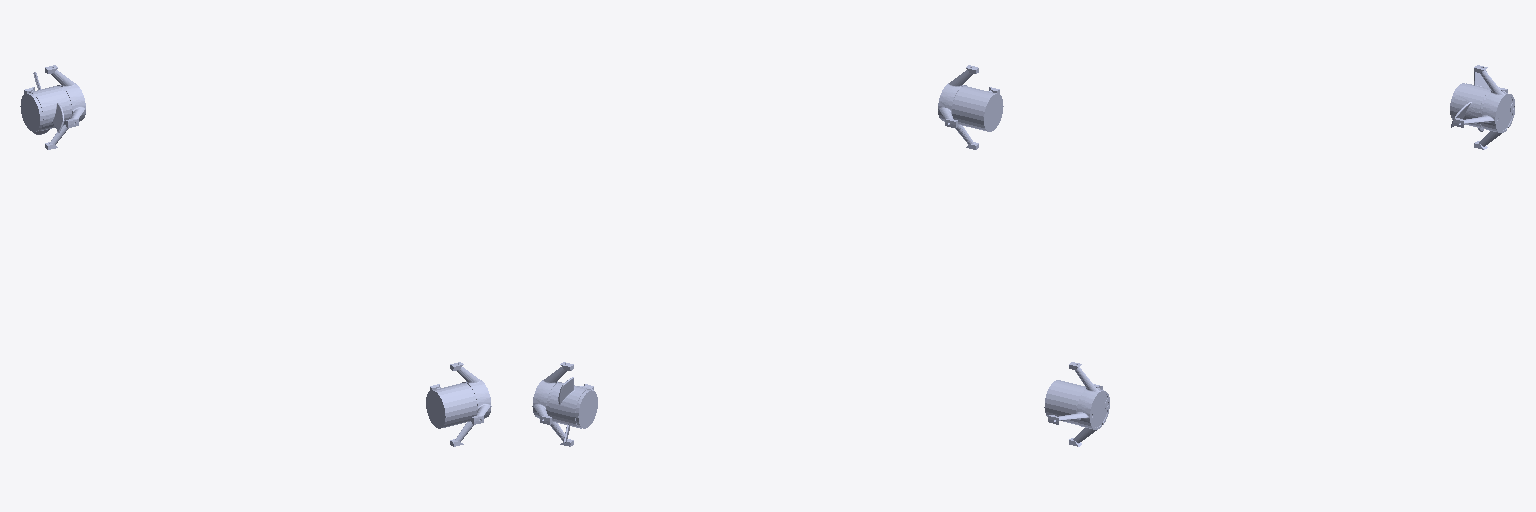
robot.urdf — boatcleaningc:
<?xml version="1.0" encoding="utf-8"?>
<!-- This URDF was automatically created by SolidWorks to URDF Exporter! Originally created by Stephen Brawner ([email redacted]) 
     Commit Version: 1.6.0-4-g7f85cfe  Build Version: 1.6.7995.38578
     For more information, please see http://wiki.ros.org/sw_urdf_exporter -->
<robot
  name="boatcleaningc">
  <link
    name="baseboatclening">
    <inertial>
      <origin
        xyz="-0.0129680077841765 1.25727561811617E-06 -0.0543415157249071"
        rpy="0 0 0" />
      <mass
        value="13.5985858196954" />
      <inertia
        ixx="0.12499527878428"
        ixy="8.1696015611578E-07"
        ixz="-0.00148374605527537"
        iyy="0.0961950105001574"
        iyz="8.27994826632574E-06"
        izz="0.136442575579436" />
    </inertial>
    <visual>
      <origin
        xyz="0 0 0"
        rpy="0 0 0" />
      <geometry>
        <mesh
          filename="package://boatcleaningc/meshes/baseboatclening.STL" />
      </geometry>
      <material
        name="">
        <color
          rgba="1 1 1 1" />
      </material>
    </visual>
    <collision>
      <origin
        xyz="0 0 0"
        rpy="0 0 0" />
      <geometry>
        <mesh
          filename="package://boatcleaningc/meshes/baseboatclening.STL" />
      </geometry>
    </collision>
  </link>
  <link
    name="axegauche">
    <inertial>
      <origin
        xyz="1.27679435346639E-06 -4.87775281632352E-06 0.0164902272597591"
        rpy="0 0 0" />
      <mass
        value="0.0667653906372772" />
      <inertia
        ixx="2.27687846986066E-05"
        ixy="-1.64564197087163E-09"
        ixz="-1.94145680803022E-09"
        iyy="2.27919636489373E-05"
        iyz="7.33602396572131E-09"
        izz="1.69008013245686E-05" />
    </inertial>
    <visual>
      <origin
        xyz="0 0 0"
        rpy="0 0 0" />
      <geometry>
        <mesh
          filename="package://boatcleaningc/meshes/axegauche.STL" />
      </geometry>
      <material
        name="">
        <color
          rgba="0.792156862745098 0.819607843137255 0.933333333333333 1" />
      </material>
    </visual>
    <collision>
      <origin
        xyz="0 0 0"
        rpy="0 0 0" />
      <geometry>
        <mesh
          filename="package://boatcleaningc/meshes/axegauche.STL" />
      </geometry>
    </collision>
  </link>
  <joint
    name="axegauchejoint"
    type="fixed">
    <origin
      xyz="-0.263293964432029 0.398727536440511 -0.255999999999994"
      rpy="-1.5707963267949 -0.0017453292519949 -1.5707963267949" />
    <parent
      link="baseboatclening" />
    <child
      link="axegauche" />
    <axis
      xyz="0 0 0" />
  </joint>
  <link
    name="fangauche">
    <inertial>
      <origin
        xyz="0.0121880649596051 -1.96166660693109E-09 4.45801809634272E-08"
        rpy="0 0 0" />
      <mass
        value="0.00795785659641826" />
      <inertia
        ixx="3.72710558894489E-06"
        ixy="2.12970220347823E-13"
        ixz="-8.34019260089533E-13"
        iyy="2.39331655167268E-06"
        iyz="-4.61638273535348E-10"
        izz="2.39447831194732E-06" />
    </inertial>
    <visual>
      <origin
        xyz="0 0 0"
        rpy="0 0 0" />
      <geometry>
        <mesh
          filename="package://boatcleaningc/meshes/fangauche.STL" />
      </geometry>
      <material
        name="">
        <color
          rgba="0.792156862745098 0.819607843137255 0.933333333333333 1" />
      </material>
    </visual>
    <collision>
      <origin
        xyz="0 0 0"
        rpy="0 0 0" />
      <geometry>
        <mesh
          filename="package://boatcleaningc/meshes/fangauche.STL" />
      </geometry>
    </collision>
  </link>
  <joint
    name="fangauchejoint"
    type="continuous">
    <origin
      xyz="0 0 -0.0065208"
      rpy="1.5691 -1.5708 0" />
    <parent
      link="axegauche" />
    <child
      link="fangauche" />
    <axis
      xyz="1 0 0" />
  </joint>
  <link
    name="axedroit">
    <inertial>
      <origin
        xyz="1.27706300609431E-06 -4.87768385248888E-06 0.0164902268079528"
        rpy="0 0 0" />
      <mass
        value="0.0667653874530656" />
      <inertia
        ixx="2.2768784169048E-05"
        ixy="-1.64569925595665E-09"
        ixz="-1.94169064678752E-09"
        iyy="2.27919627987871E-05"
        iyz="7.33603381553706E-09"
        izz="1.69008005306967E-05" />
    </inertial>
    <visual>
      <origin
        xyz="0 0 0"
        rpy="0 0 0" />
      <geometry>
        <mesh
          filename="package://boatcleaningc/meshes/axedroit.STL" />
      </geometry>
      <material
        name="">
        <color
          rgba="0.792156862745098 0.819607843137255 0.933333333333333 1" />
      </material>
    </visual>
    <collision>
      <origin
        xyz="0 0 0"
        rpy="0 0 0" />
      <geometry>
        <mesh
          filename="package://boatcleaningc/meshes/axedroit.STL" />
      </geometry>
    </collision>
  </link>
  <joint
    name="axedroitjoint"
    type="fixed">
    <origin
      xyz="-0.263293964432035 -0.401272463559541 -0.255999999999994"
      rpy="-1.5707963267949 -0.00174532925200045 -1.5707963267949" />
    <parent
      link="baseboatclening" />
    <child
      link="axedroit" />
    <axis
      xyz="0 0 0" />
  </joint>
  <link
    name="fandroit">
    <inertial>
      <origin
        xyz="0.0111720649596025 -1.96166084764915E-09 4.45801802140267E-08"
        rpy="0 0 0" />
      <mass
        value="0.0079578565964185" />
      <inertia
        ixx="3.72710558894501E-06"
        ixy="2.12970222312377E-13"
        ixz="-8.34019270254807E-13"
        iyy="2.39331655167276E-06"
        iyz="-4.61638273470614E-10"
        izz="2.39447831194736E-06" />
    </inertial>
    <visual>
      <origin
        xyz="0 0 0"
        rpy="0 0 0" />
      <geometry>
        <mesh
          filename="package://boatcleaningc/meshes/fandroit.STL" />
      </geometry>
      <material
        name="">
        <color
          rgba="0.792156862745098 0.819607843137255 0.933333333333333 1" />
      </material>
    </visual>
    <collision>
      <origin
        xyz="0 0 0"
        rpy="0 0 0" />
      <geometry>
        <mesh
          filename="package://boatcleaningc/meshes/fandroit.STL" />
      </geometry>
    </collision>
  </link>
  <joint
    name="fandroitjoint"
    type="continuous">
    <origin
      xyz="0 0 -0.0055047"
      rpy="1.5691 -1.5708 0" />
    <parent
      link="axedroit" />
    <child
      link="fandroit" />
    <axis
      xyz="1 0 0" />
  </joint>
</robot>

--- Facts derived from the render (not from the file) ---
The picture shows the robot from 3 angles, left to right: view 1: azimuth 30°, elevation 25°; view 2: azimuth 150°, elevation 25°; view 3: azimuth 330°, elevation 25°; orthographic projection.
Robot: boatcleaningc — 5 links, 4 joints (2 continuous, 2 fixed); root link baseboatclening; default pose: all joints at 0.
Visible links, largest first — view 1: axedroit, axegauche, fangauche; view 2: axedroit, axegauche, fangauche; view 3: axedroit, axegauche, fangauche.
Boxes of the visible links, x1,y1,x2,y2 form: axedroit: [426, 362, 491, 446]; axegauche: [20, 65, 85, 149]; fangauche: [28, 72, 69, 134]; axedroit: [938, 65, 1003, 149]; axegauche: [532, 362, 597, 446]; fangauche: [549, 377, 593, 443]; axedroit: [1044, 362, 1109, 446]; axegauche: [1450, 65, 1514, 149]; fangauche: [1451, 69, 1490, 131].
Bounding box of the posed robot: 0.052 × 0.8874 × 0.0874 m (x, y, z).
Meshes: 5 distinct files referenced, 3 mesh visuals loaded (3 binary STL); not drawn: 2 (reference not matched to a file when rendering).
